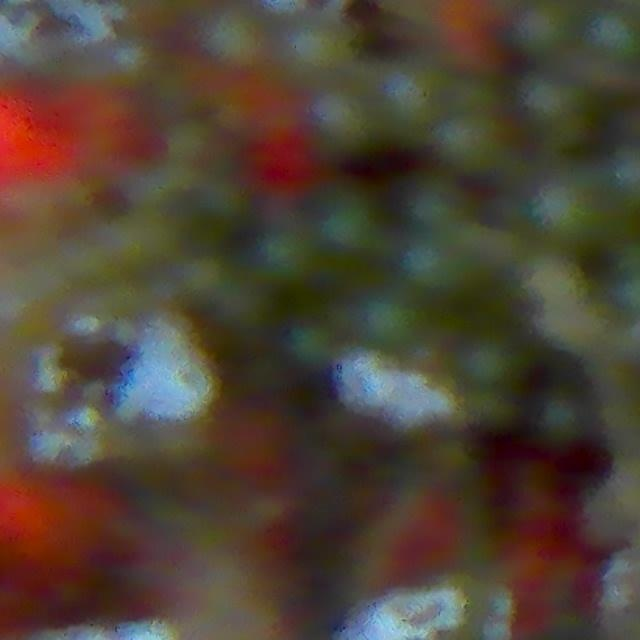SeaGrape: (526, 173, 598, 245), (515, 68, 585, 137), (353, 290, 421, 357), (313, 188, 379, 252), (511, 0, 576, 58), (582, 6, 640, 67), (308, 100, 364, 158), (264, 222, 315, 278), (383, 62, 436, 115)
